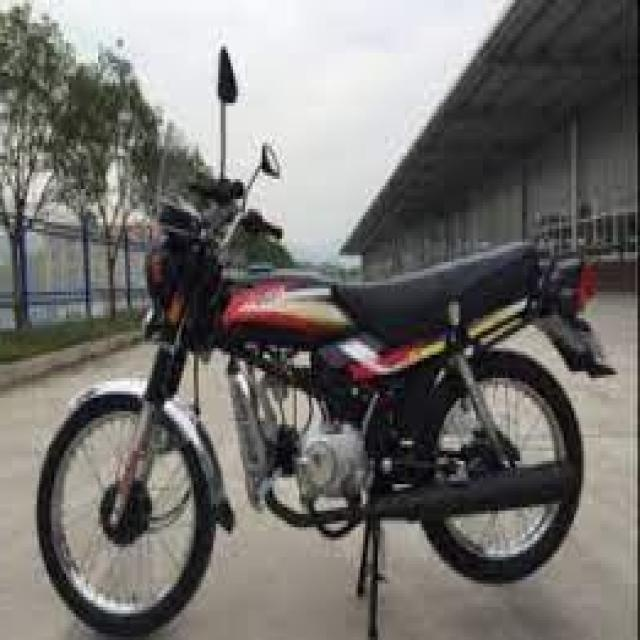motorcycle: (12, 22, 623, 635)
